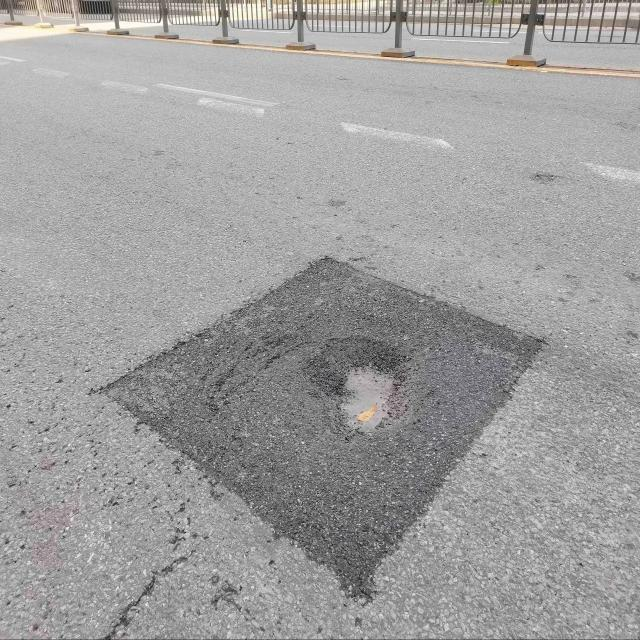Pothole: (281, 334, 414, 454)
